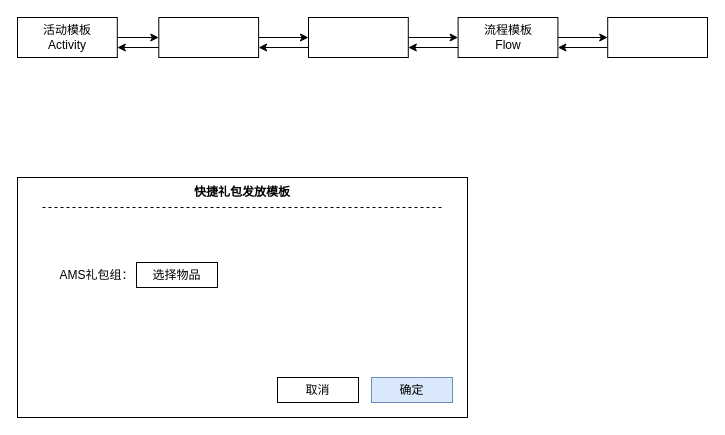
The diagram is 725 pixels wide and 435 high, and some of its shapes have lost their labels. The shapes that lost their labels are listed below. From the top down, each one's box as (x1, y1, x2, y2) in pixels, then its label:
(158, 16, 259, 58): 玩法模板 Play
(308, 16, 408, 58): 组件模板 Component
(607, 16, 708, 58): 条件模板 Condition
